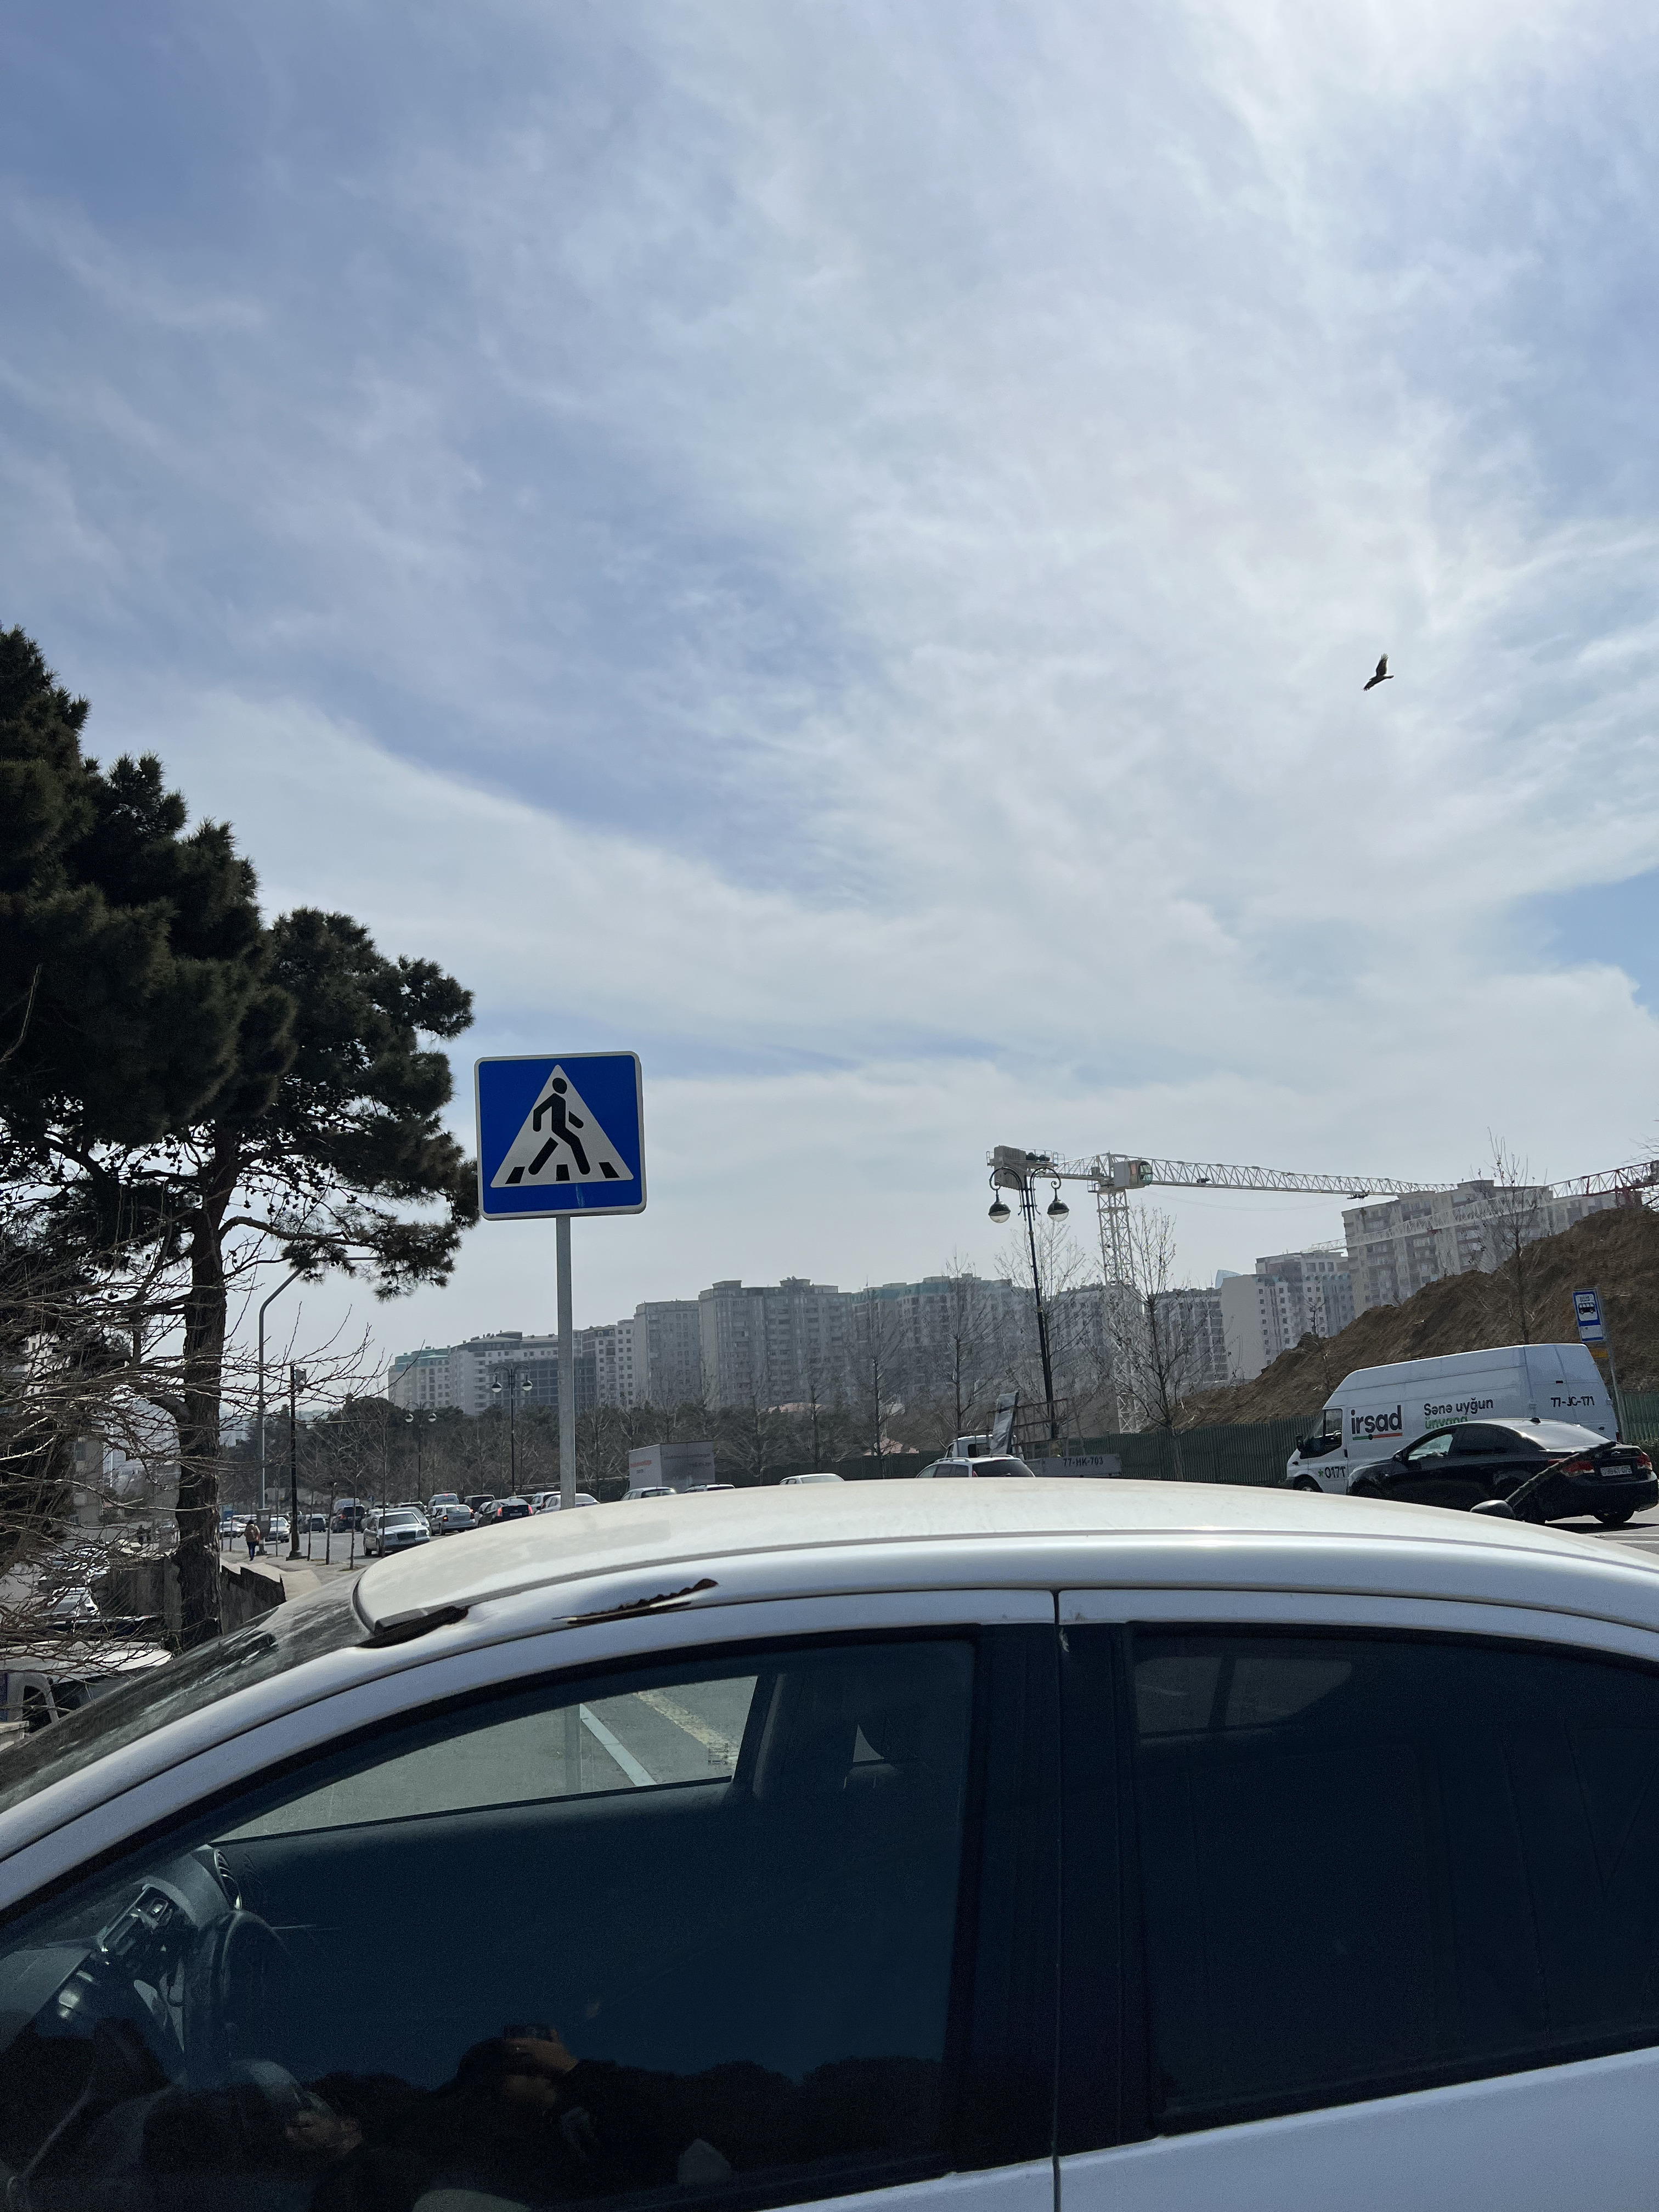Pedestrian Crossing: (474, 1052, 643, 1221)
